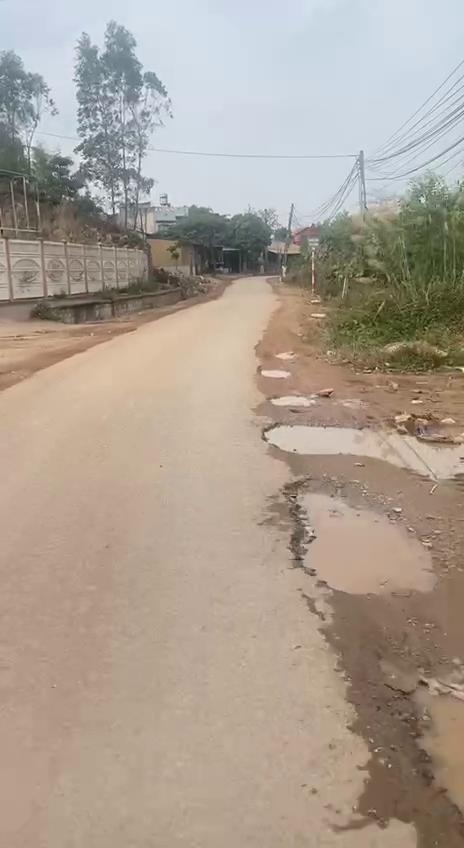pothole: (284, 475, 437, 594), (386, 648, 464, 834), (264, 412, 464, 483)
